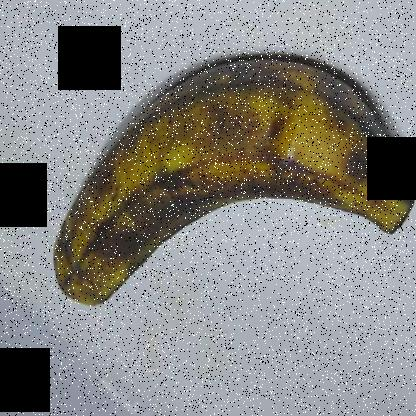overripe: (52, 17, 415, 321)
